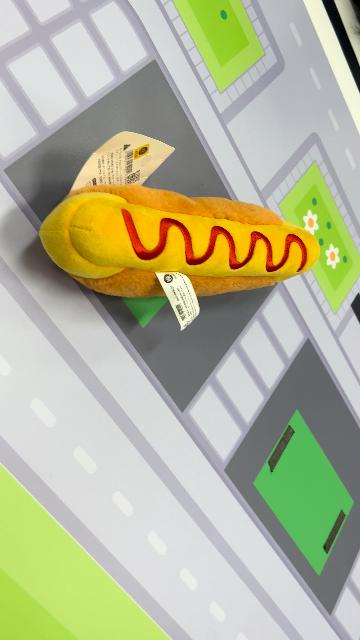hotdog: (38, 183, 322, 301)
